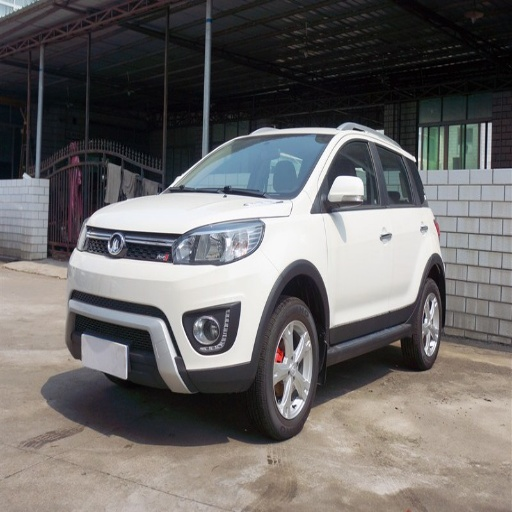front_bumper: (66, 228, 279, 392)
front_glass: (167, 134, 330, 199)
front_left_door: (321, 134, 394, 343)
